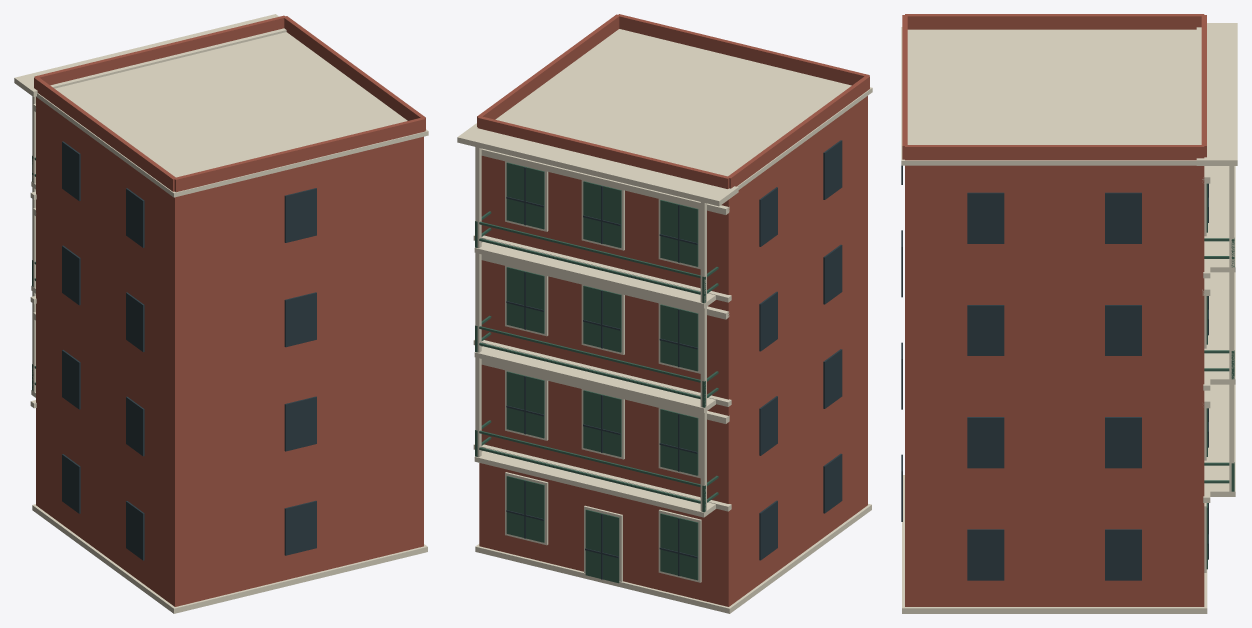
The model's file is KOL_T3_OLD_05.fbx.
3 renders of one model, left to right at view 1: azimuth 30°, elevation 25°; view 2: azimuth 150°, elevation 25°; view 3: azimuth 270°, elevation 25°, orthographic. The views are drawn at different scales.
Visible parts, largest first — view 1: KOL_T3_OLD_05__Body, KOL_T3_OLD_05__Trim, KOL_T3_OLD_05__Dark; view 2: KOL_T3_OLD_05__Body, KOL_T3_OLD_05__Trim, KOL_T3_OLD_05__Accent, KOL_T3_OLD_05__Dark; view 3: KOL_T3_OLD_05__Body, KOL_T3_OLD_05__Trim, KOL_T3_OLD_05__Dark, KOL_T3_OLD_05__Accent.
Part boxes in pixels (box(x1,y1,x2,y2)): KOL_T3_OLD_05__Body: box(34, 15, 425, 606); KOL_T3_OLD_05__Trim: box(14, 14, 428, 613); KOL_T3_OLD_05__Dark: box(62, 141, 316, 560); KOL_T3_OLD_05__Body: box(477, 14, 869, 606); KOL_T3_OLD_05__Trim: box(457, 29, 872, 613); KOL_T3_OLD_05__Accent: box(475, 162, 718, 583); KOL_T3_OLD_05__Dark: box(506, 140, 842, 579); KOL_T3_OLD_05__Body: box(902, 14, 1206, 606); KOL_T3_OLD_05__Trim: box(901, 23, 1237, 613); KOL_T3_OLD_05__Dark: box(901, 165, 1208, 580); KOL_T3_OLD_05__Accent: box(1204, 183, 1234, 569).
Bounding box in the file's own units: 31.5 × 49.9 × 32.62.
